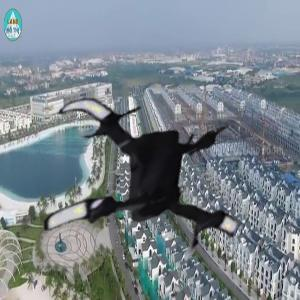drone: (33, 63, 271, 300)
